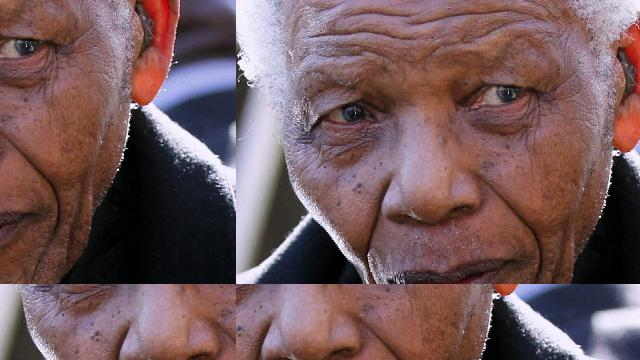chin: (35, 273, 91, 284), (5, 265, 27, 284)
crows_feet: (167, 102, 195, 134), (236, 98, 240, 112)
forehead: (92, 20, 178, 58), (31, 0, 157, 20), (183, 0, 217, 20), (236, 57, 256, 68), (264, 57, 288, 65)
frown_line: (69, 43, 89, 73), (98, 44, 112, 76), (266, 68, 272, 82)
gummy_smile: (0, 146, 29, 214), (364, 323, 416, 360), (110, 162, 136, 234), (240, 339, 265, 360), (252, 110, 262, 132), (280, 112, 290, 134), (86, 284, 97, 287)
masseter: (236, 116, 242, 137)
sad_smile: (113, 248, 128, 284), (282, 134, 290, 151), (248, 138, 256, 154)
